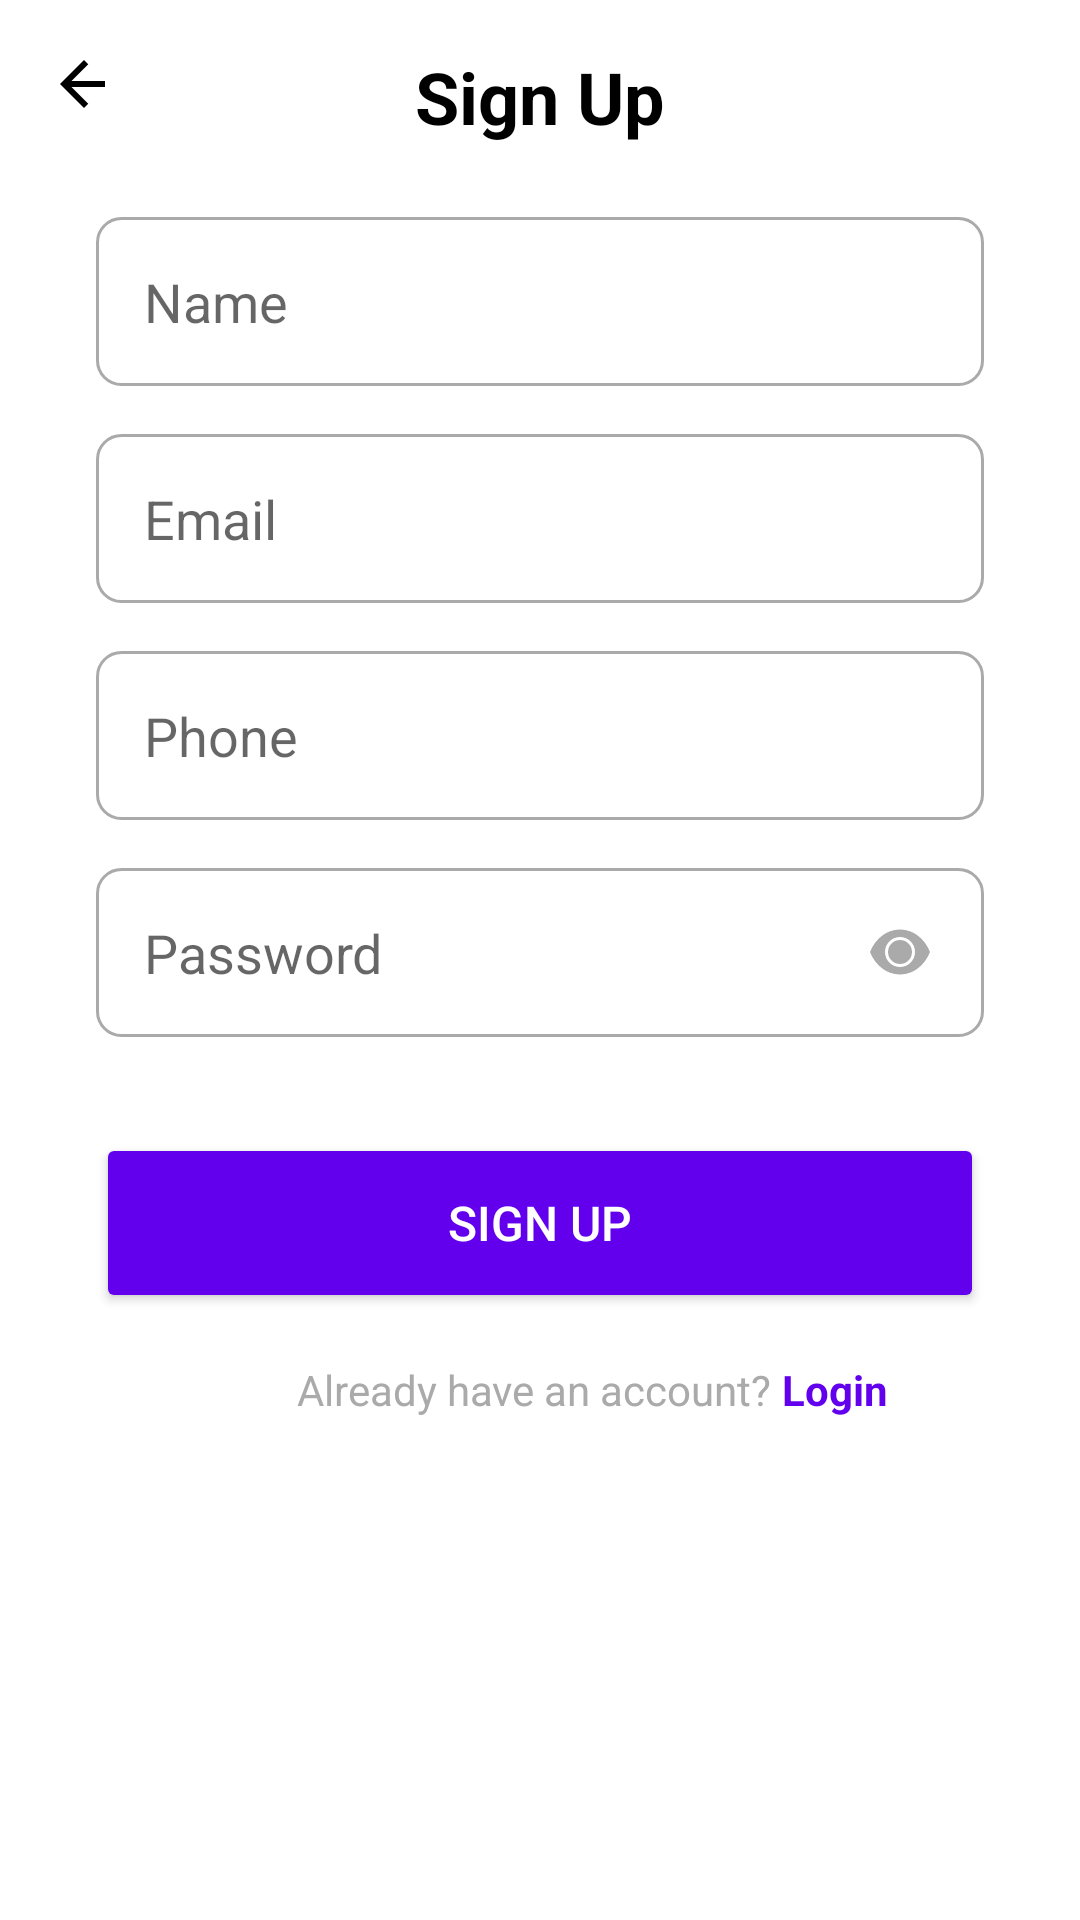

Named icons in this screenshot (1080 × 1920) and their centers, [x,y]:
back: [82,84]
